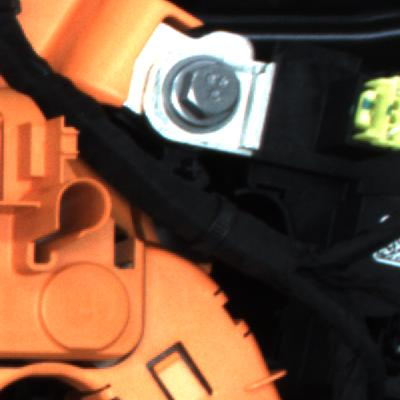nut_b: (168, 58, 264, 136)
